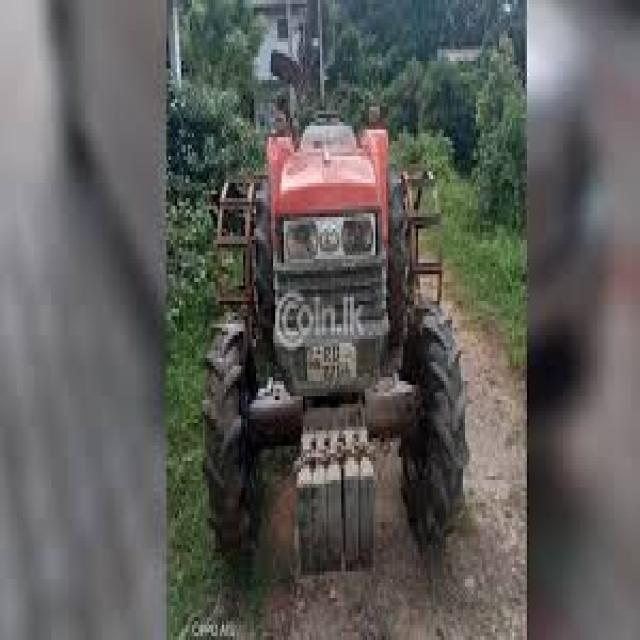tractor: (177, 141, 400, 640)
